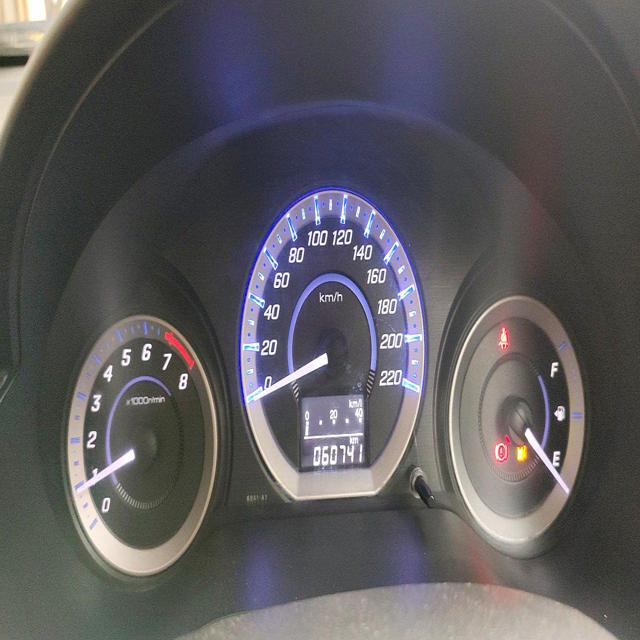odometer: (311, 440, 364, 468)
